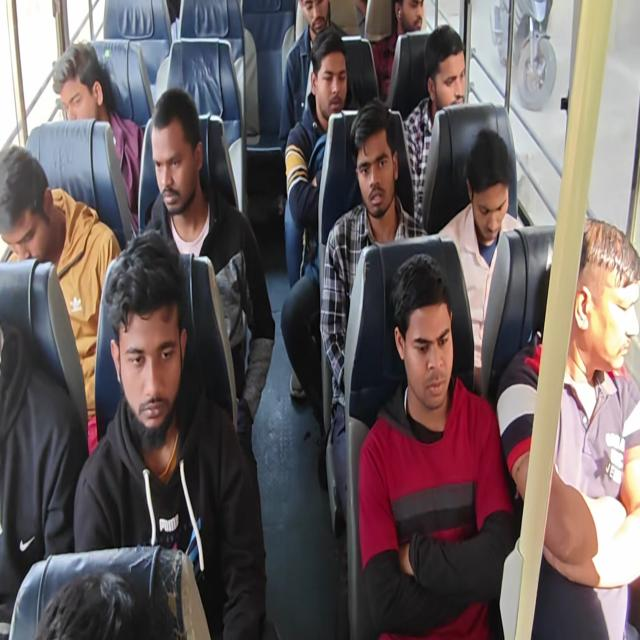person: (1, 2, 638, 638), (72, 229, 268, 638), (358, 252, 516, 638), (496, 217, 640, 638), (142, 86, 276, 466), (319, 98, 428, 526), (0, 143, 122, 454), (0, 320, 89, 638), (436, 128, 525, 394), (52, 39, 144, 226), (284, 28, 348, 288), (403, 24, 466, 230), (278, 0, 347, 153), (35, 569, 150, 639), (368, 0, 424, 102)
